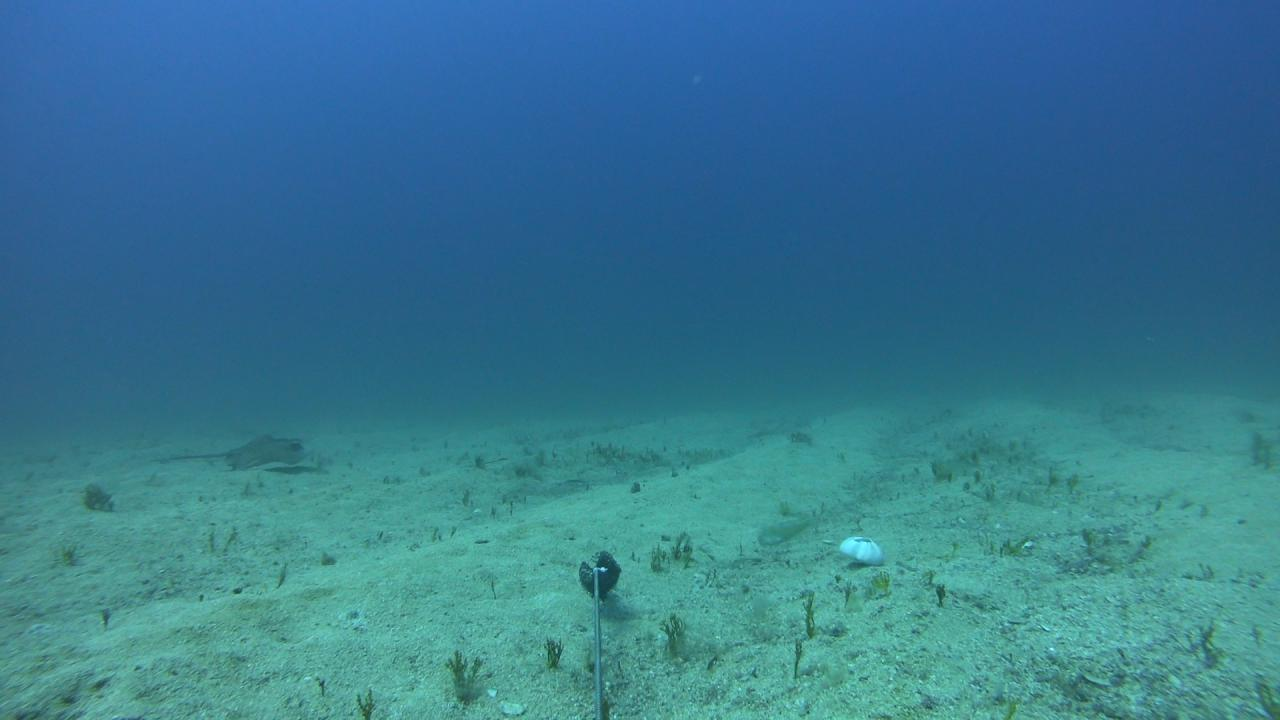dasyatis: (159, 433, 311, 469)
raor: (754, 510, 811, 542)
